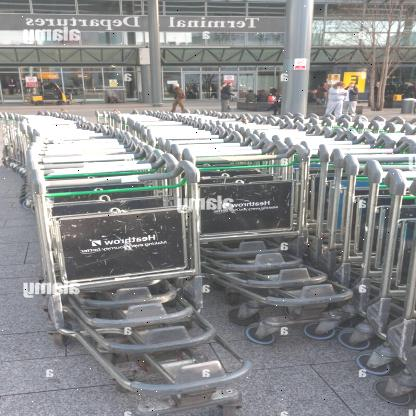airport-trolley: (148, 108, 416, 407), (0, 112, 246, 413), (91, 108, 347, 342)
